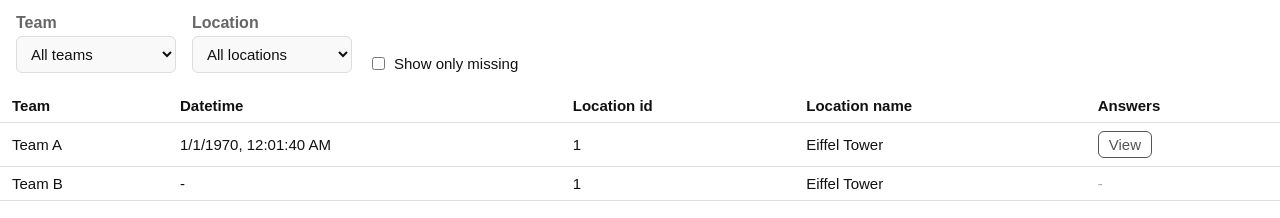
Test case: 'Show only missing' filters out rows that have a submission
Expected: the number of rows is 3, x1=0 y1=89 x2=1279 y2=122; x1=0 y1=122 x2=1279 y2=166; x1=0 y1=166 x2=1279 y2=200
Click the checkbox labelled "Show only missing". click: (378, 64)
box: x1=372 y1=57 x2=385 y2=70
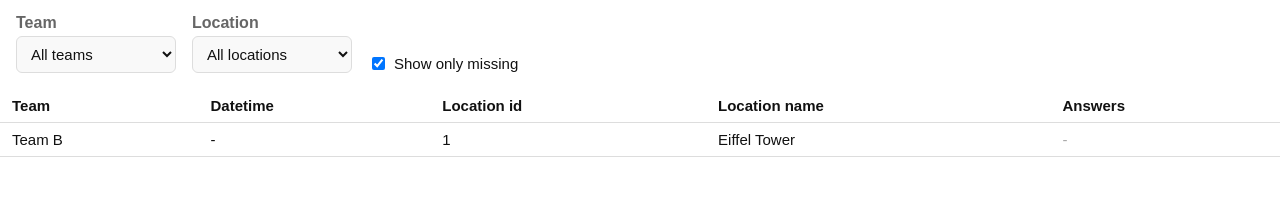
Expected: the number of rows is 2, x1=0 y1=89 x2=1279 y2=122; x1=0 y1=122 x2=1279 y2=156
